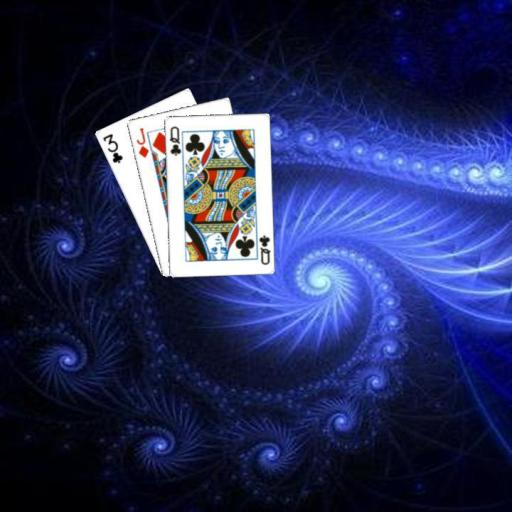3C: (100, 130, 124, 164)
JD: (133, 125, 150, 160)
QC: (255, 232, 272, 266), (166, 123, 182, 157)
